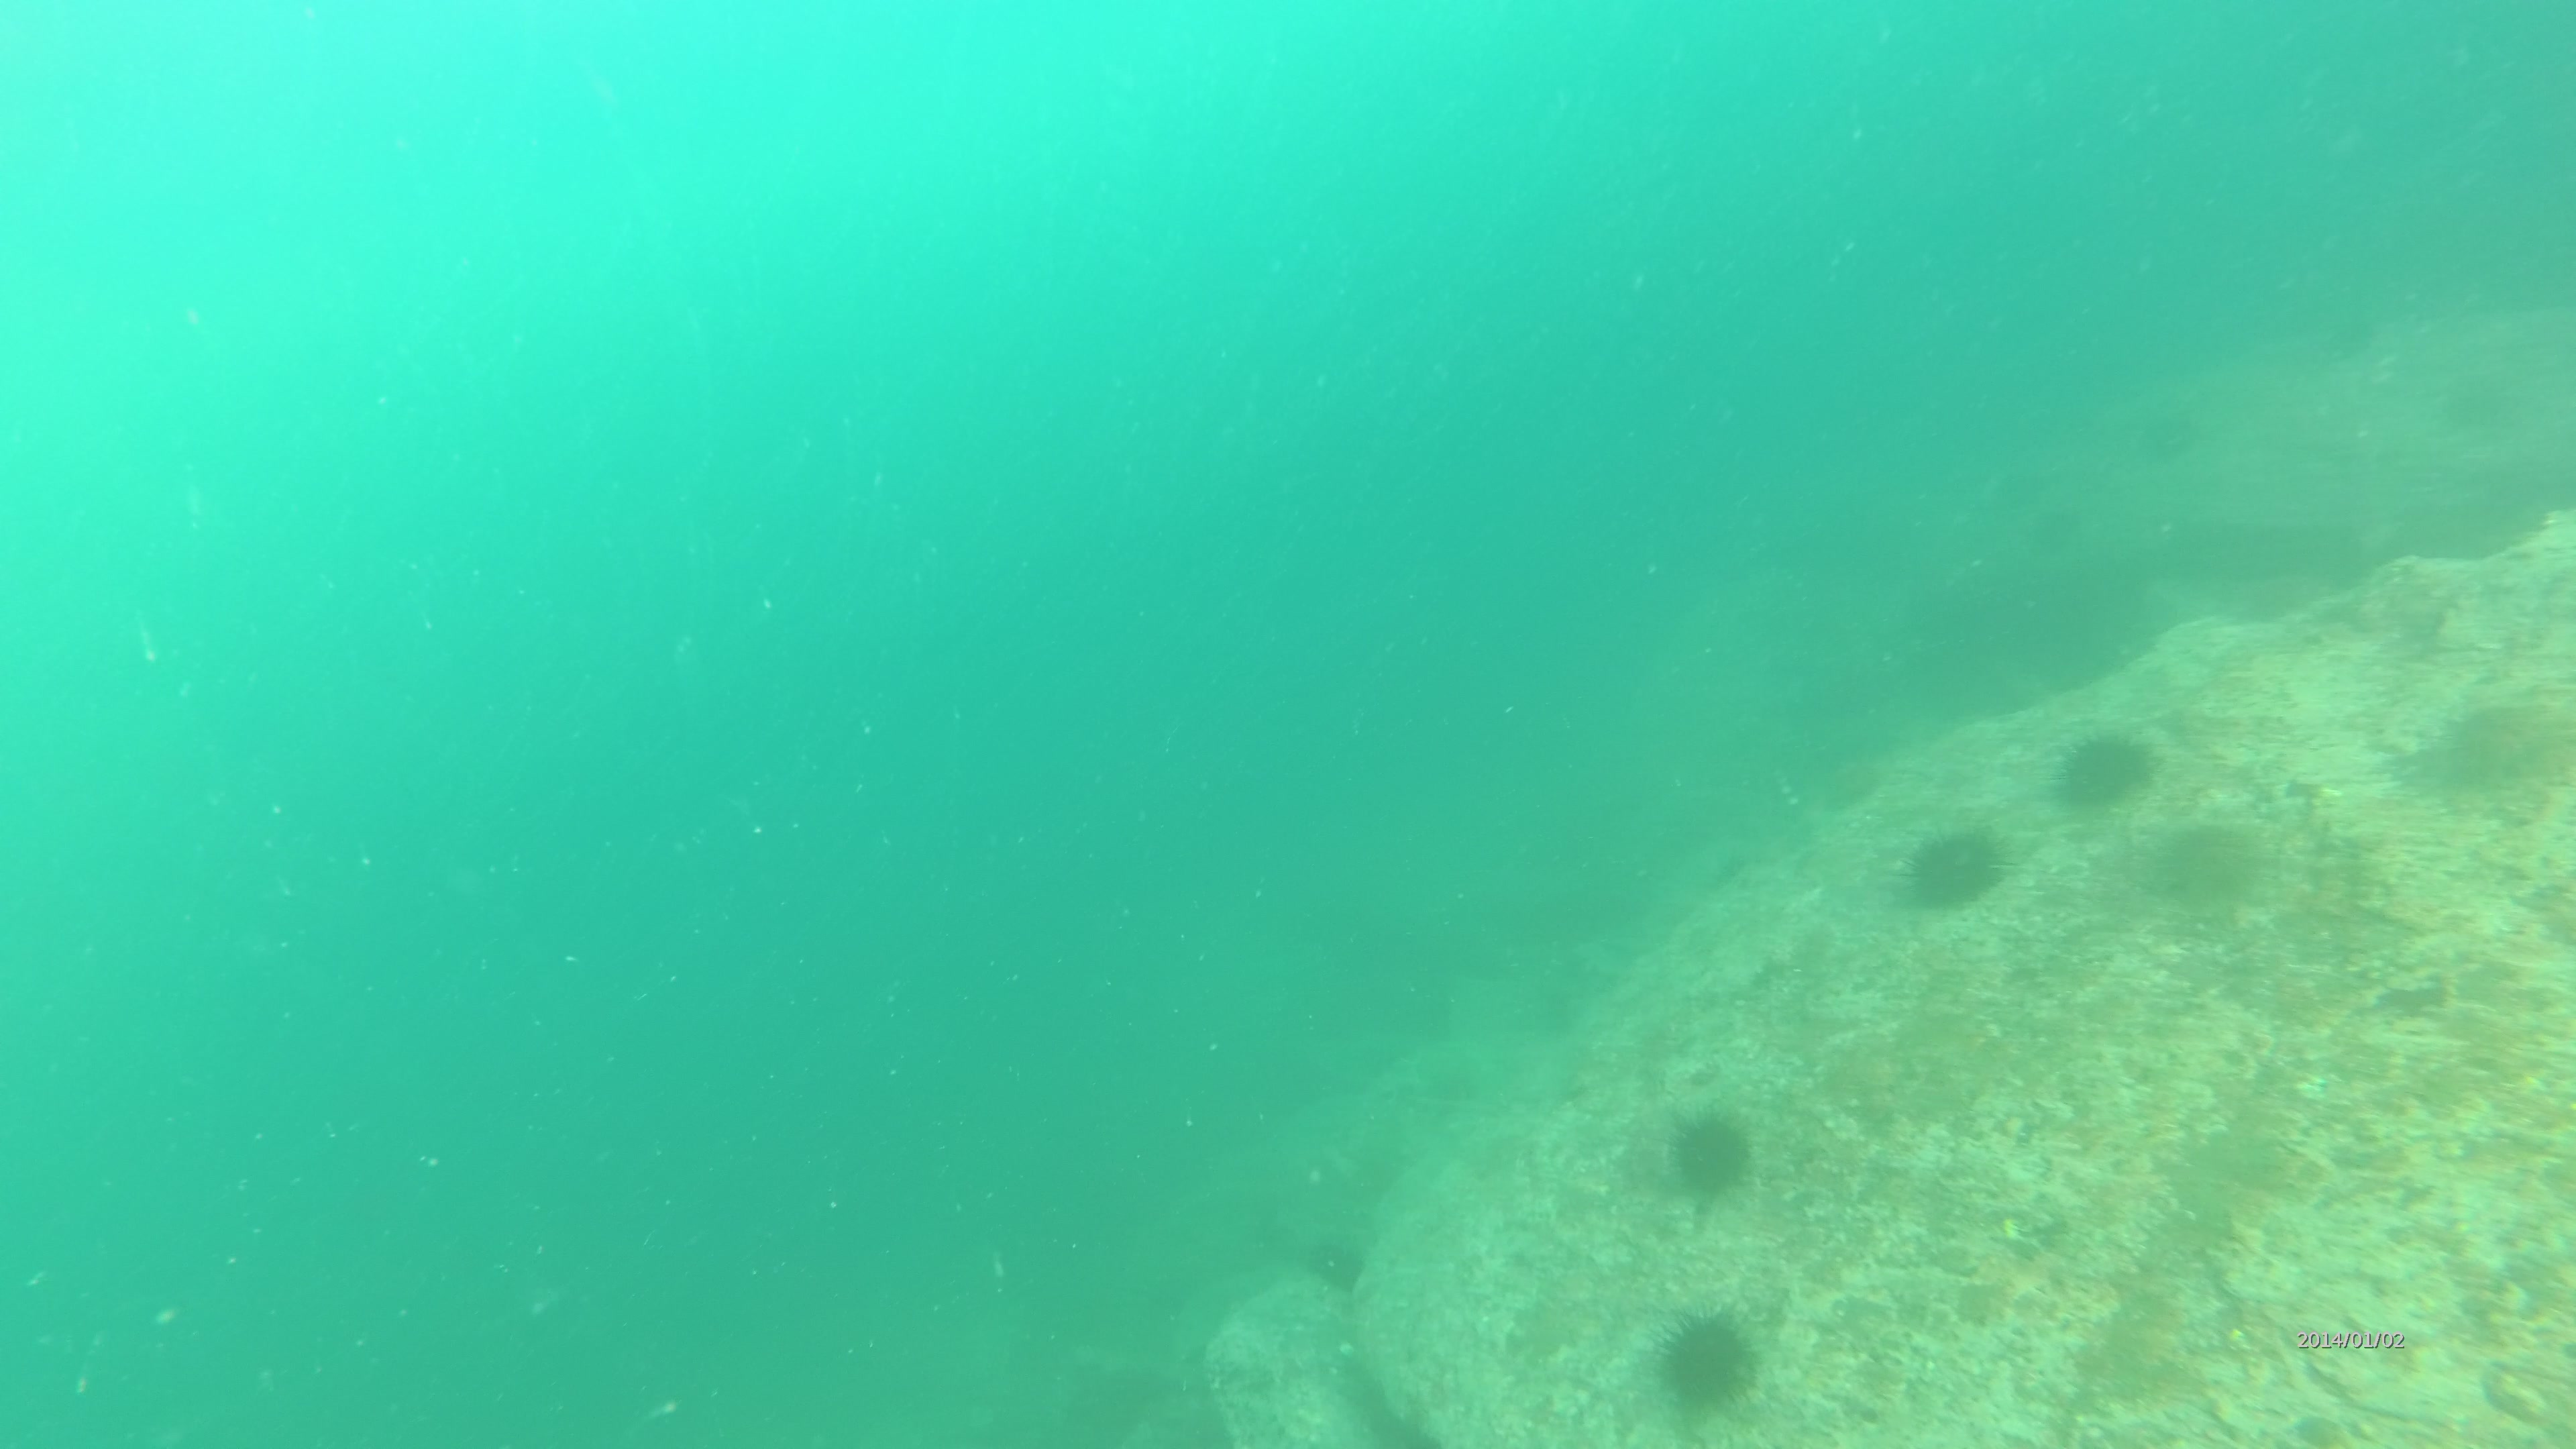echinus: (1645, 1299, 1764, 1410), (2146, 824, 2268, 925), (2429, 699, 2558, 791), (1904, 823, 1997, 904), (1658, 1111, 1748, 1187), (2065, 725, 2130, 809)
